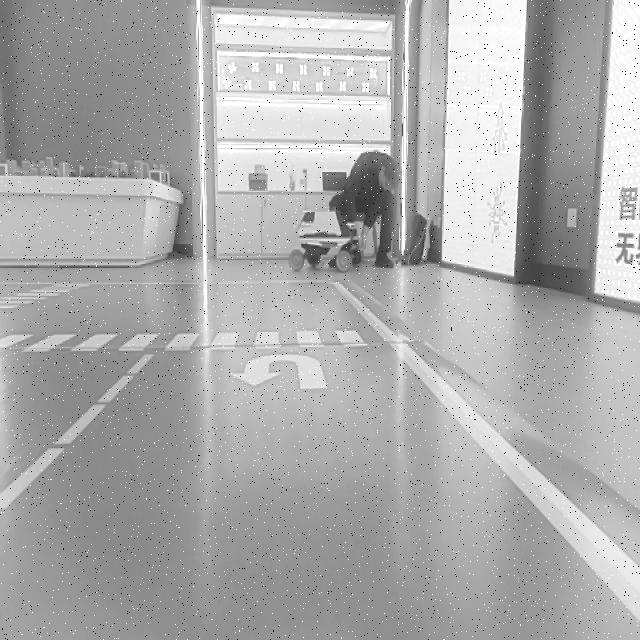left_lane: (2, 353, 156, 513)
right_lane: (346, 291, 637, 616)
